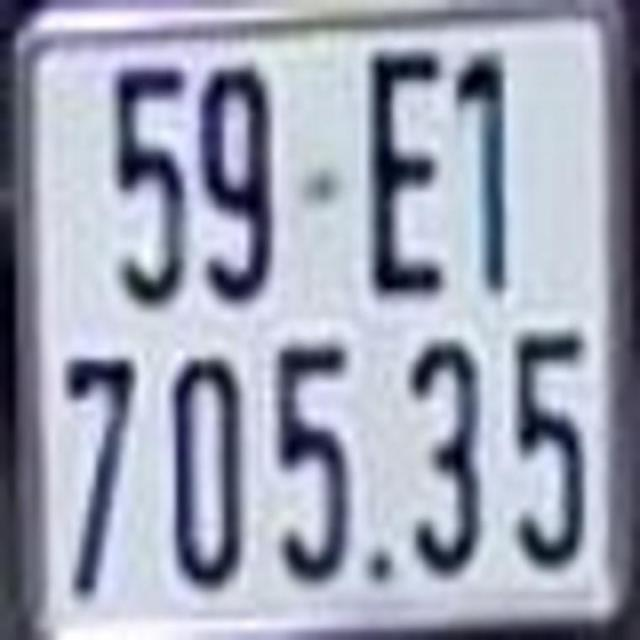0: (171, 356, 242, 590)
1: (458, 55, 509, 292)
3: (406, 338, 487, 580)
5: (112, 59, 186, 303), (517, 329, 590, 561), (276, 348, 347, 580)
7: (62, 350, 136, 588)
9: (196, 70, 280, 302)
E: (367, 49, 445, 290)
